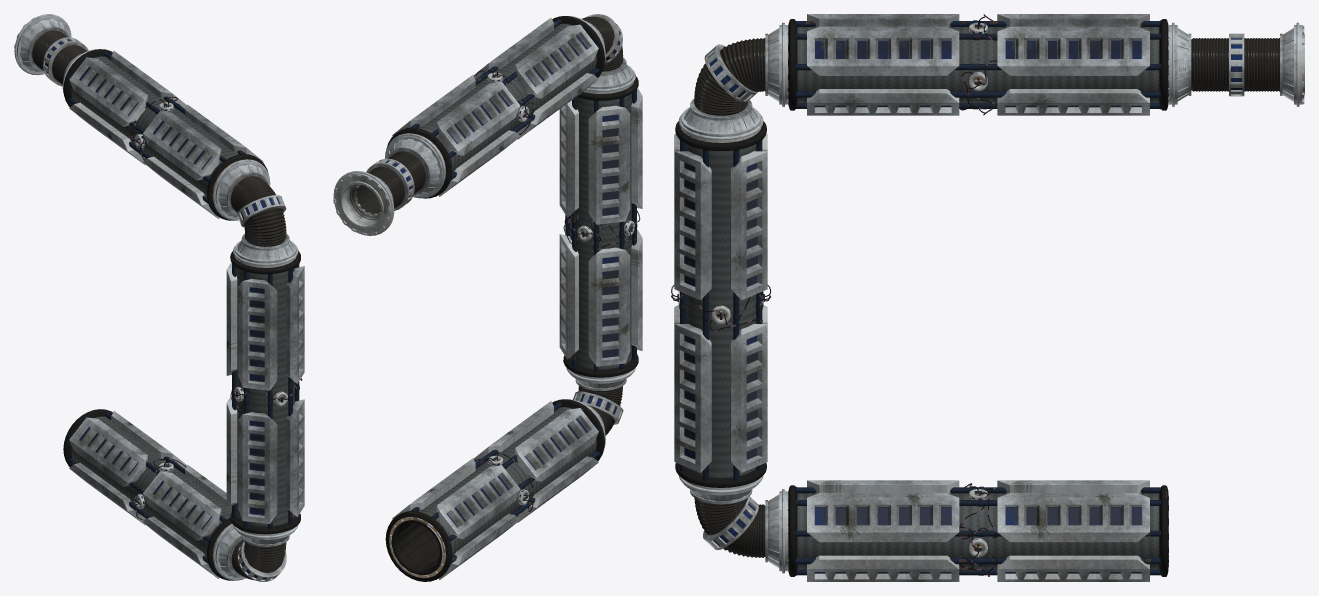
Rendered from C_Shape_3Pipes.fbx.
The picture shows the model from 3 angles, left to right: view 1: azimuth 30°, elevation 25°; view 2: azimuth 150°, elevation 25°; view 3: azimuth 270°, elevation 25°; orthographic projection. The views are drawn at different scales.
Visible parts, largest first — view 1: C_Shape_3Pipes; view 2: C_Shape_3Pipes; view 3: C_Shape_3Pipes.
Boxes of the visible parts, x1,y1,x2,y2 form: C_Shape_3Pipes: (14,14,304,581); C_Shape_3Pipes: (333,14,642,581); C_Shape_3Pipes: (671,14,1304,581).
Bounding box in the file's own units: 52.54 × 322 × 333.
